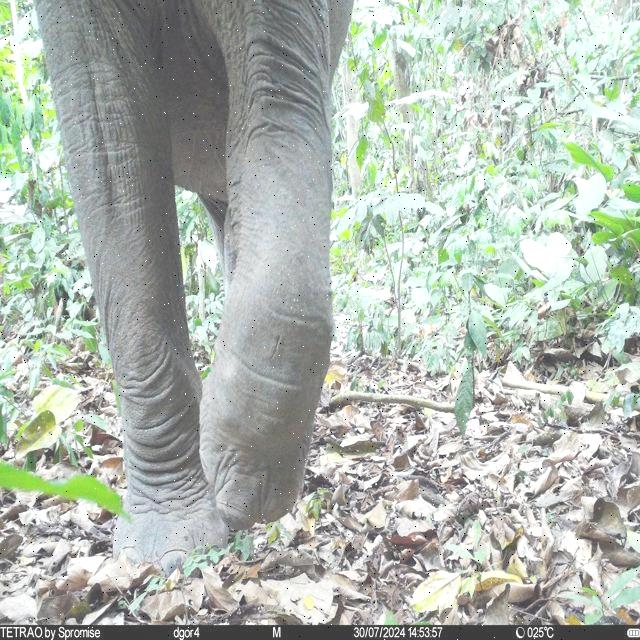elephant: (32, 0, 356, 574)
